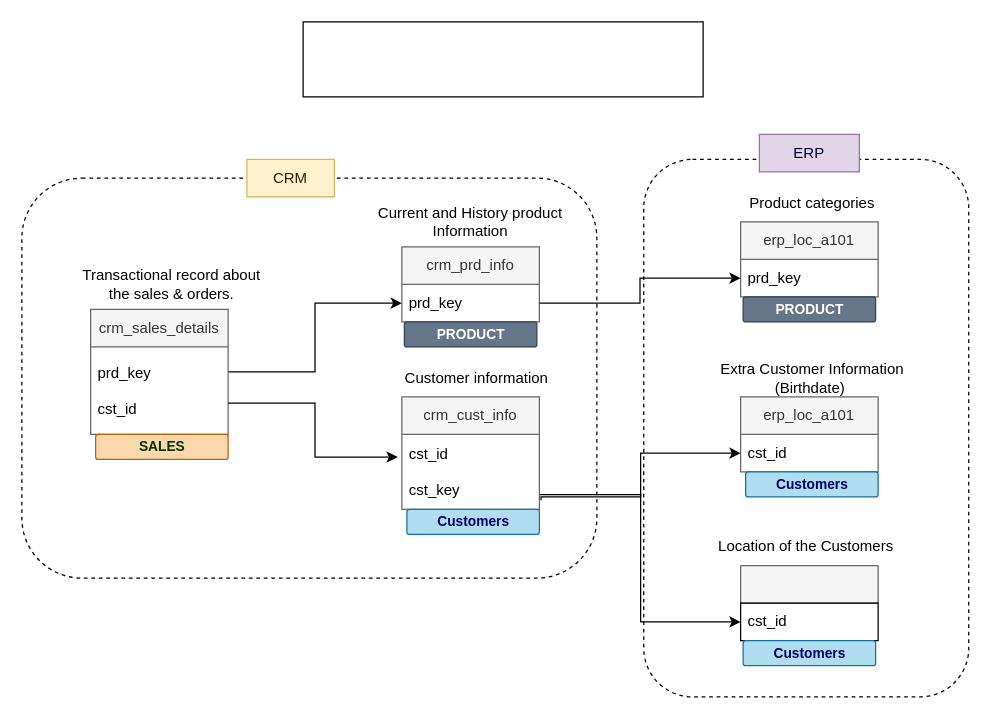
This 991x719 diagram has some shape labels left out. Each missing label, with the centre of its shape:
"erp_cust_az12" belongs at (808,583).
"Integration Model (How tables are related)" belongs at (502,59).
